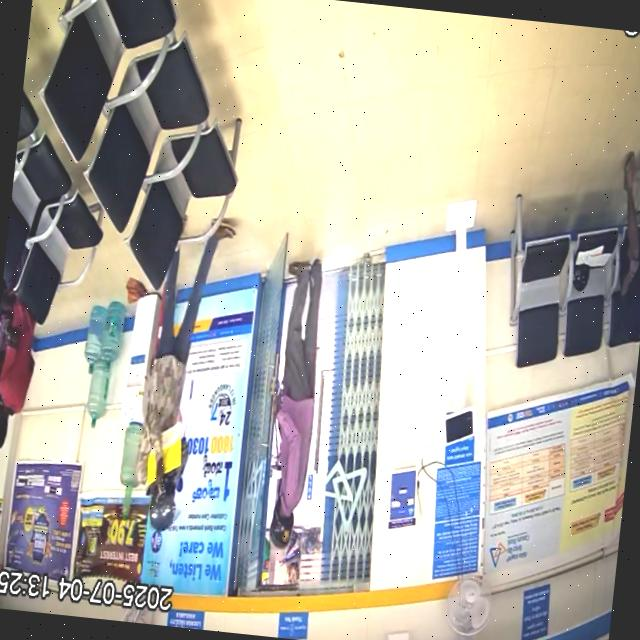helmet: (149, 471, 181, 531), (269, 497, 294, 552)
